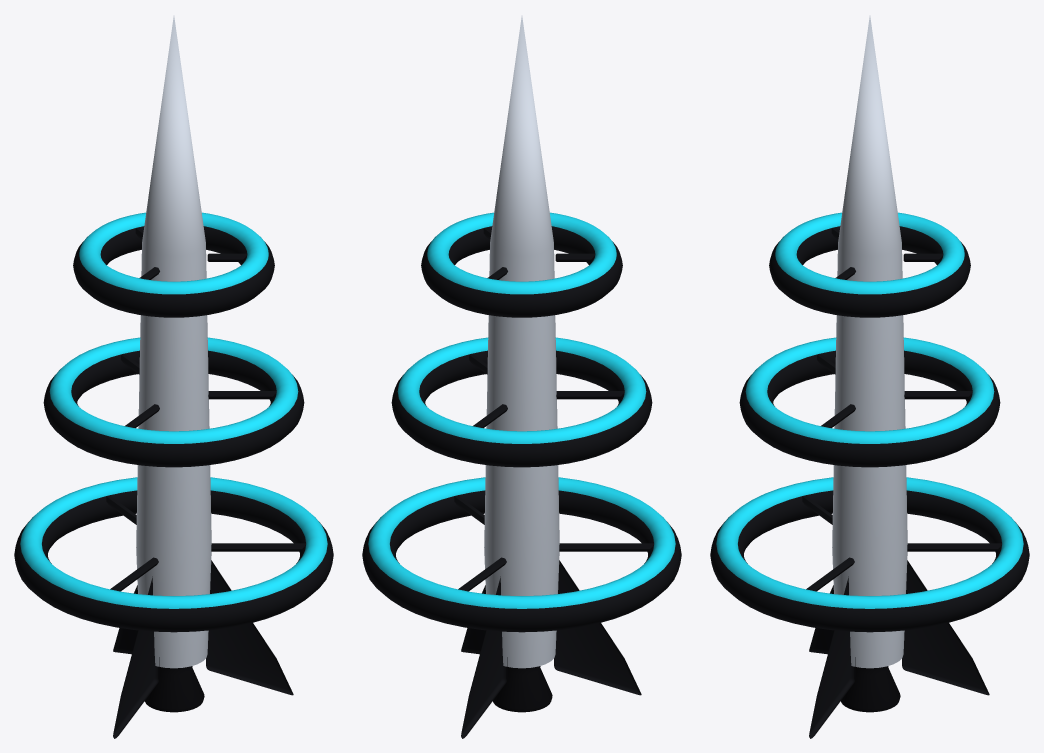
The model's file is Rocket_23_RingDrive.obj.
3 views of the same model, side by side, from view 1: azimuth 30°, elevation 25°; view 2: azimuth 150°, elevation 25°; view 3: azimuth 270°, elevation 25° (orthographic).
Parts seen in each view (by area): view 1: R23_Spear, R23_DriveRingFrame, R23_DriveRing, R23_DriveRingFrame_2, R23_DriveRing_2, R23_DriveRingFrame_3, R23_DriveRing_3, R23_Fin_3, R23_Fin_2, R23_Nozzle, R23_Spoke_3, R23_Spoke_6; view 2: R23_Spear, R23_DriveRingFrame, R23_DriveRing, R23_DriveRingFrame_2, R23_DriveRing_2, R23_DriveRingFrame_3, R23_DriveRing_3, R23_Fin_2, R23_Fin, R23_Nozzle, R23_Spoke_2, R23_Spoke_5; view 3: R23_Spear, R23_DriveRingFrame, R23_DriveRing, R23_DriveRingFrame_2, R23_DriveRing_2, R23_DriveRingFrame_3, R23_DriveRing_3, R23_Fin, R23_Fin_3, R23_Nozzle, R23_Spoke, R23_Spoke_4.
Part boxes in pixels (x1=…): R23_Spear: x1=136, y1=15, x2=211, y2=668; R23_DriveRingFrame: x1=14, y1=490, x2=333, y2=632; R23_DriveRing: x1=20, y1=477, x2=327, y2=608; R23_DriveRingFrame_2: x1=43, y1=350, x2=304, y2=467; R23_DriveRing_2: x1=49, y1=337, x2=298, y2=443; R23_DriveRingFrame_3: x1=73, y1=226, x2=274, y2=317; R23_DriveRing_3: x1=79, y1=212, x2=268, y2=294; R23_Fin_3: x1=206, y1=560, x2=293, y2=695; R23_Fin_2: x1=113, y1=576, x2=159, y2=738; R23_Nozzle: x1=144, y1=666, x2=204, y2=712; R23_Spoke_3: x1=211, y1=543, x2=305, y2=551; R23_Spoke_6: x1=208, y1=391, x2=276, y2=399; R23_Spear: x1=484, y1=15, x2=559, y2=668; R23_DriveRingFrame: x1=362, y1=490, x2=681, y2=632; R23_DriveRing: x1=368, y1=477, x2=675, y2=608; R23_DriveRingFrame_2: x1=391, y1=350, x2=652, y2=467; R23_DriveRing_2: x1=397, y1=337, x2=646, y2=443; R23_DriveRingFrame_3: x1=421, y1=226, x2=622, y2=317; R23_DriveRing_3: x1=427, y1=212, x2=616, y2=294; R23_Fin_2: x1=554, y1=560, x2=641, y2=695; R23_Fin: x1=461, y1=576, x2=507, y2=738; R23_Nozzle: x1=493, y1=666, x2=552, y2=712; R23_Spoke_2: x1=559, y1=543, x2=653, y2=551; R23_Spoke_5: x1=556, y1=391, x2=624, y2=399; R23_Spear: x1=832, y1=15, x2=907, y2=668; R23_DriveRingFrame: x1=710, y1=490, x2=1029, y2=632; R23_DriveRing: x1=716, y1=477, x2=1023, y2=608; R23_DriveRingFrame_2: x1=739, y1=350, x2=1000, y2=467; R23_DriveRing_2: x1=745, y1=337, x2=994, y2=443; R23_DriveRingFrame_3: x1=769, y1=226, x2=970, y2=317; R23_DriveRing_3: x1=775, y1=212, x2=964, y2=294; R23_Fin: x1=902, y1=560, x2=989, y2=695; R23_Fin_3: x1=809, y1=576, x2=855, y2=738; R23_Nozzle: x1=841, y1=666, x2=900, y2=712; R23_Spoke: x1=907, y1=543, x2=1001, y2=551; R23_Spoke_4: x1=904, y1=391, x2=972, y2=399.
Size of the model in its own units: 3.8 by 9 by 3.8.
